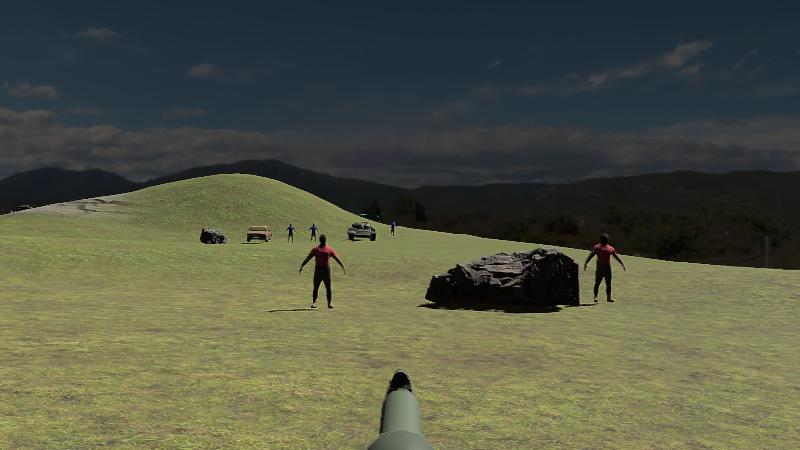Human: (299, 234, 345, 309), (584, 232, 626, 304)
